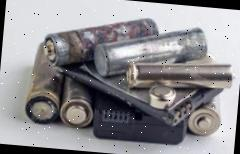electronic: (85, 12, 240, 111)
